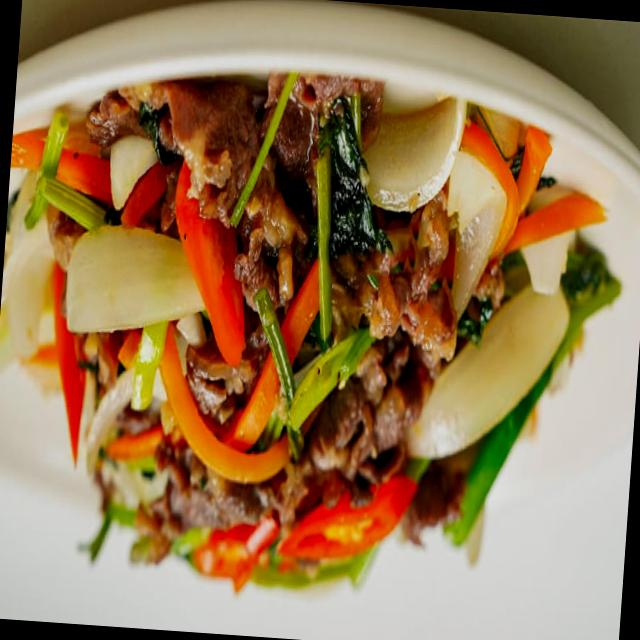bo xao: (57, 73, 549, 552)
